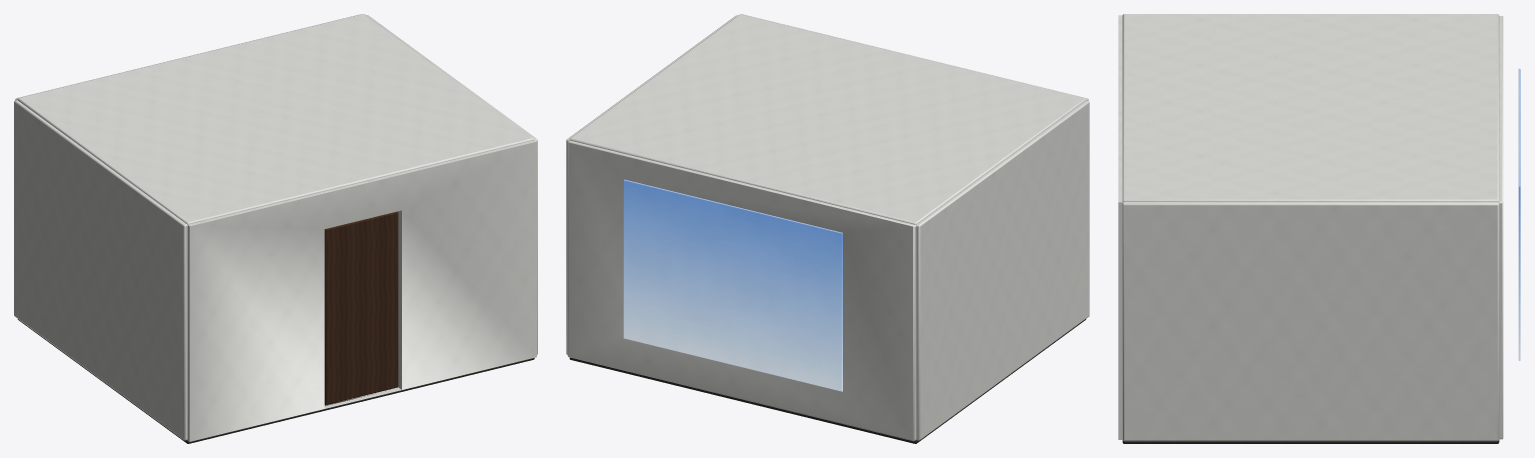
The model's file is unit-3-standard-double.glb.
The picture shows the model from 3 angles, left to right: view 1: azimuth 30°, elevation 25°; view 2: azimuth 150°, elevation 25°; view 3: azimuth 270°, elevation 25°; orthographic projection. The views are drawn at different scales.
Parts seen in each view (by area): view 1: wall_entry, ceiling, wall_left, door_1_leaf, floor, wall_right; view 2: ceiling, wall_back_window, wall_left, trim_window_backdrop, floor, wall_right; view 3: wall_right, ceiling, wall_entry, wall_back_window, floor, trim_window_backdrop.
Boxes of the visible parts, x1=… form: wall_entry: x1=187, y1=140, x2=536, y2=441; ceiling: x1=17, y1=14, x2=534, y2=224; wall_left: x1=14, y1=100, x2=187, y2=440; door_1_leaf: x1=324, y1=211, x2=398, y2=404; floor: x1=17, y1=319, x2=534, y2=443; wall_right: x1=366, y1=15, x2=537, y2=354; ceiling: x1=569, y1=14, x2=1086, y2=224; wall_back_window: x1=567, y1=140, x2=916, y2=441; wall_left: x1=916, y1=100, x2=1089, y2=440; trim_window_backdrop: x1=623, y1=179, x2=842, y2=391; floor: x1=569, y1=319, x2=1085, y2=443; wall_right: x1=566, y1=15, x2=737, y2=354; wall_right: x1=1122, y1=202, x2=1499, y2=441; ceiling: x1=1122, y1=14, x2=1499, y2=202; wall_entry: x1=1118, y1=15, x2=1123, y2=439; wall_back_window: x1=1499, y1=16, x2=1503, y2=439; floor: x1=1122, y1=440, x2=1499, y2=443; trim_window_backdrop: x1=1518, y1=68, x2=1520, y2=360.
Size of the model in its own units: 4.19 by 2.51 by 3.75.
12 materials, 11 textured.
